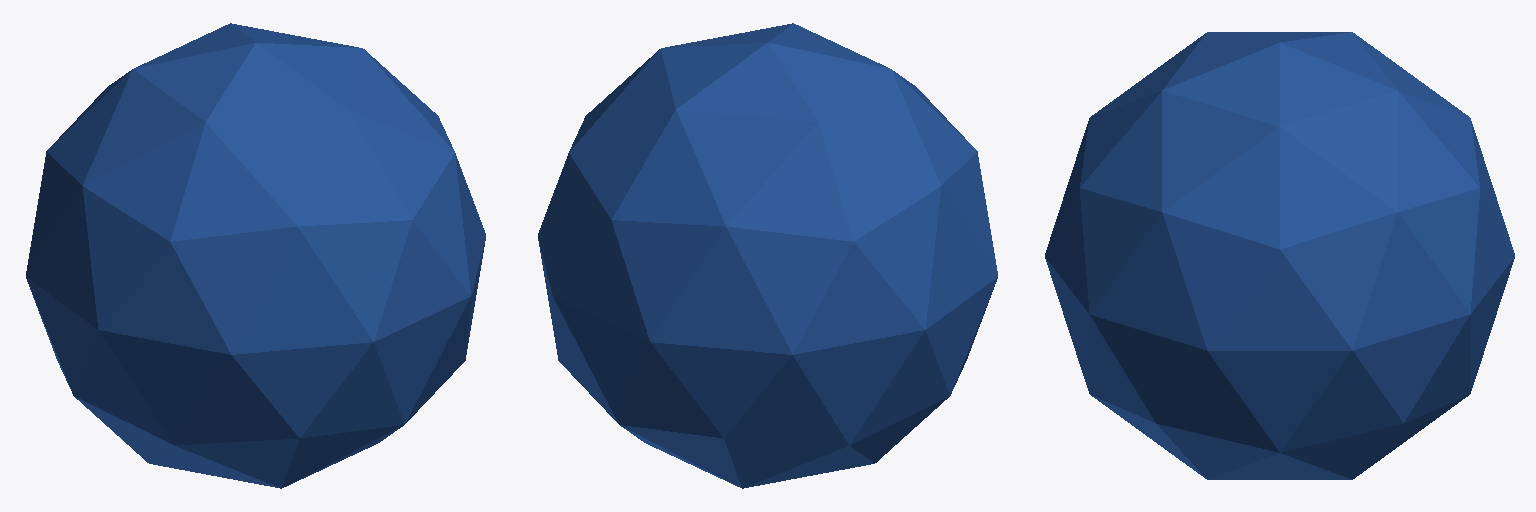
Rendered from ball.obj.
3 renders of one model, left to right at view 1: azimuth 30°, elevation 25°; view 2: azimuth 150°, elevation 25°; view 3: azimuth 270°, elevation 25°, orthographic.
Visible parts, largest first — view 1: Icosphere.001; view 2: Icosphere.001; view 3: Icosphere.001.
Boxes of the visible parts, <box> form: Icosphere.001: <box>26,23,485,488</box>; Icosphere.001: <box>538,23,997,488</box>; Icosphere.001: <box>1045,32,1514,479</box>.
Bounding box in the file's own units: 1.9 × 2 × 2.